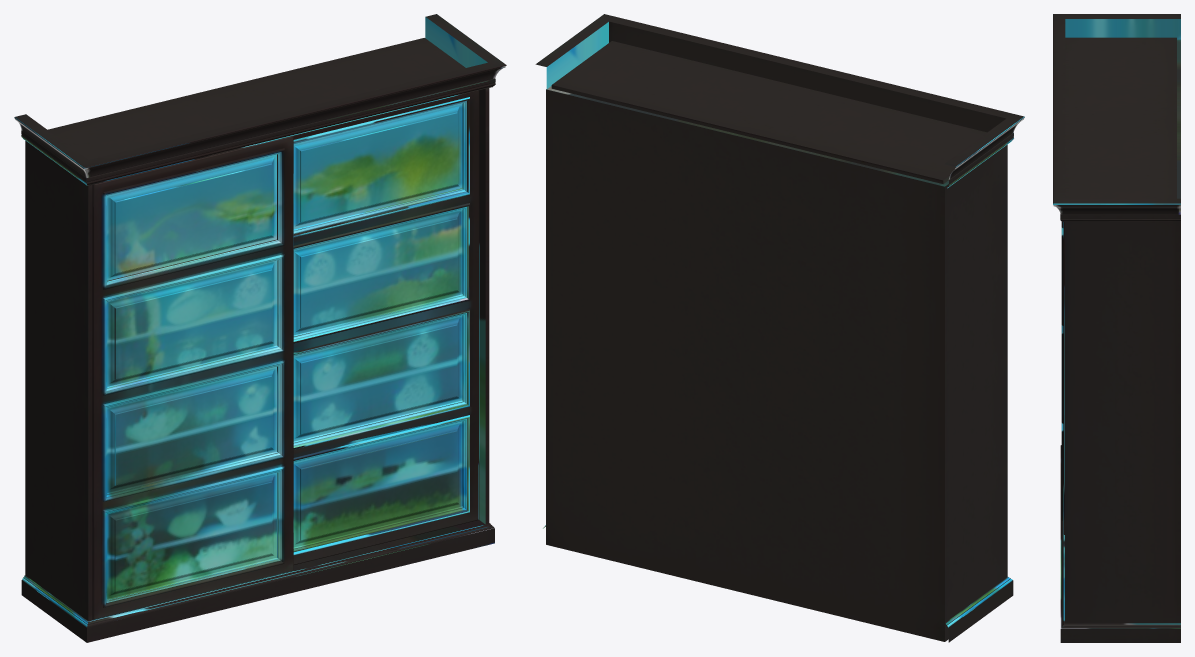
File: edited_mesh.glb
3 views of the same model, side by side, from view 1: azimuth 30°, elevation 25°; view 2: azimuth 150°, elevation 25°; view 3: azimuth 270°, elevation 25° (orthographic). The views are drawn at different scales.
Visible parts, largest first — view 1: normalized_model.obj; view 2: normalized_model.obj; view 3: normalized_model.obj.
Part boxes in pixels (left/top/right/bottom): normalized_model.obj: left=14, top=14, right=506, bottom=642; normalized_model.obj: left=535, top=14, right=1024, bottom=642; normalized_model.obj: left=1053, top=14, right=1180, bottom=642.
Bounding box in the file's own units: 1.26 × 1.37 × 0.359.
1 material, 1 textured.
